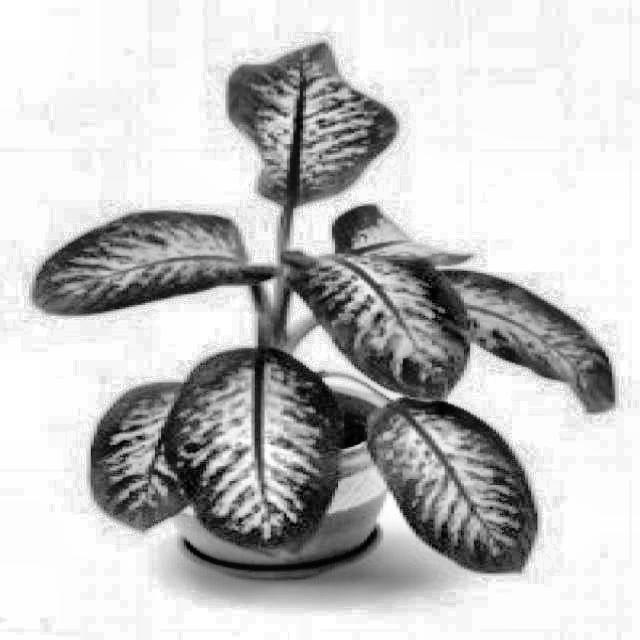plants: (84, 100, 484, 462)
